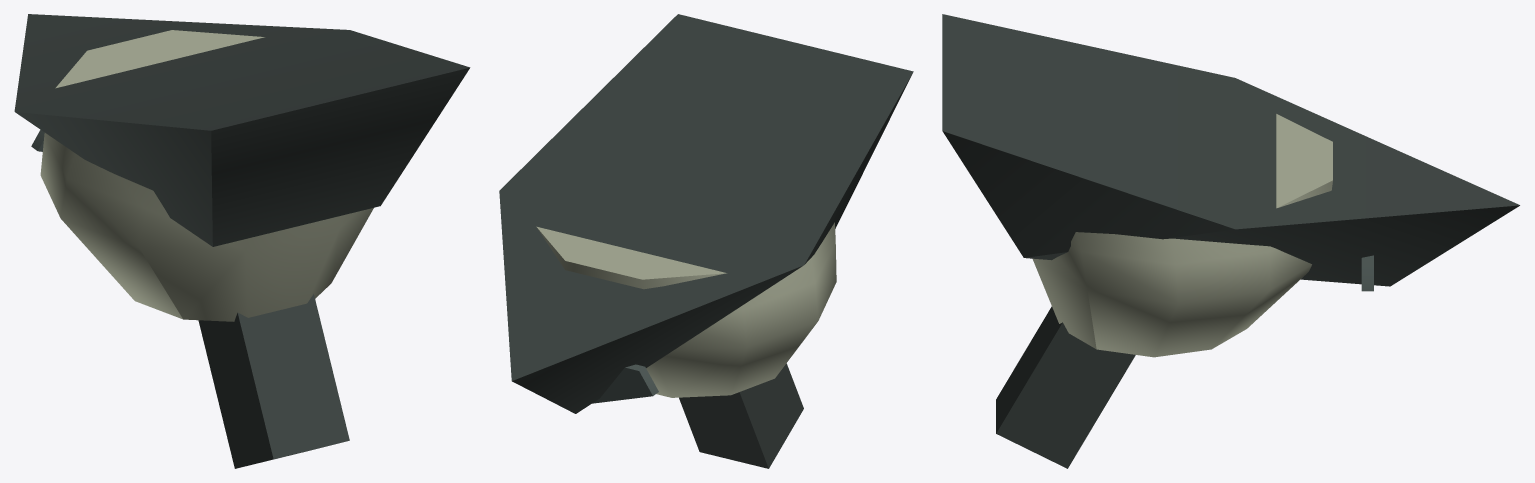
Rendered from scyther_head.obj.
3 renders of one model, left to right at view 1: azimuth 30°, elevation 25°; view 2: azimuth 150°, elevation 25°; view 3: azimuth 270°, elevation 25°, orthographic. The views are drawn at different scales.
Visible parts, largest first — view 1: rigid_shell_002, rigid_shell_001, rigid_shell_000; view 2: rigid_shell_002, rigid_shell_001, rigid_shell_000, rigid_shell_003; view 3: rigid_shell_002, rigid_shell_001, rigid_shell_000.
Boxes of the visible parts, x1,y1,x2,y2 form: rigid_shell_002: (14,14,470,246); rigid_shell_001: (40,30,373,321); rigid_shell_000: (198,294,349,468); rigid_shell_002: (499,14,913,413); rigid_shell_001: (536,222,836,397); rigid_shell_000: (679,363,803,468); rigid_shell_003: (592,364,658,403); rigid_shell_002: (942,14,1519,286); rigid_shell_001: (1032,114,1332,357); rigid_shell_000: (996,306,1135,468).
Bounding box in the file's own units: 0.44 × 0.5138 × 0.71.
